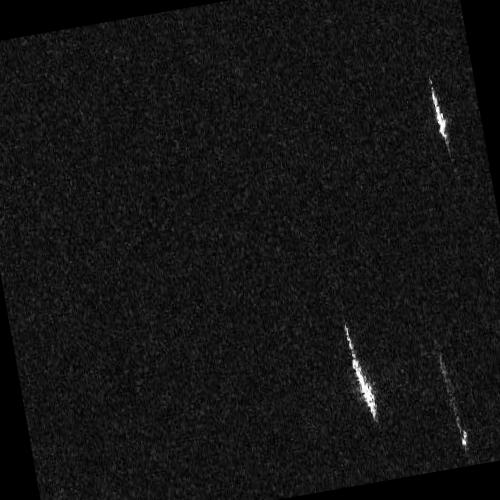ship: (342, 322, 378, 422), (440, 355, 468, 447), (430, 82, 449, 145)
